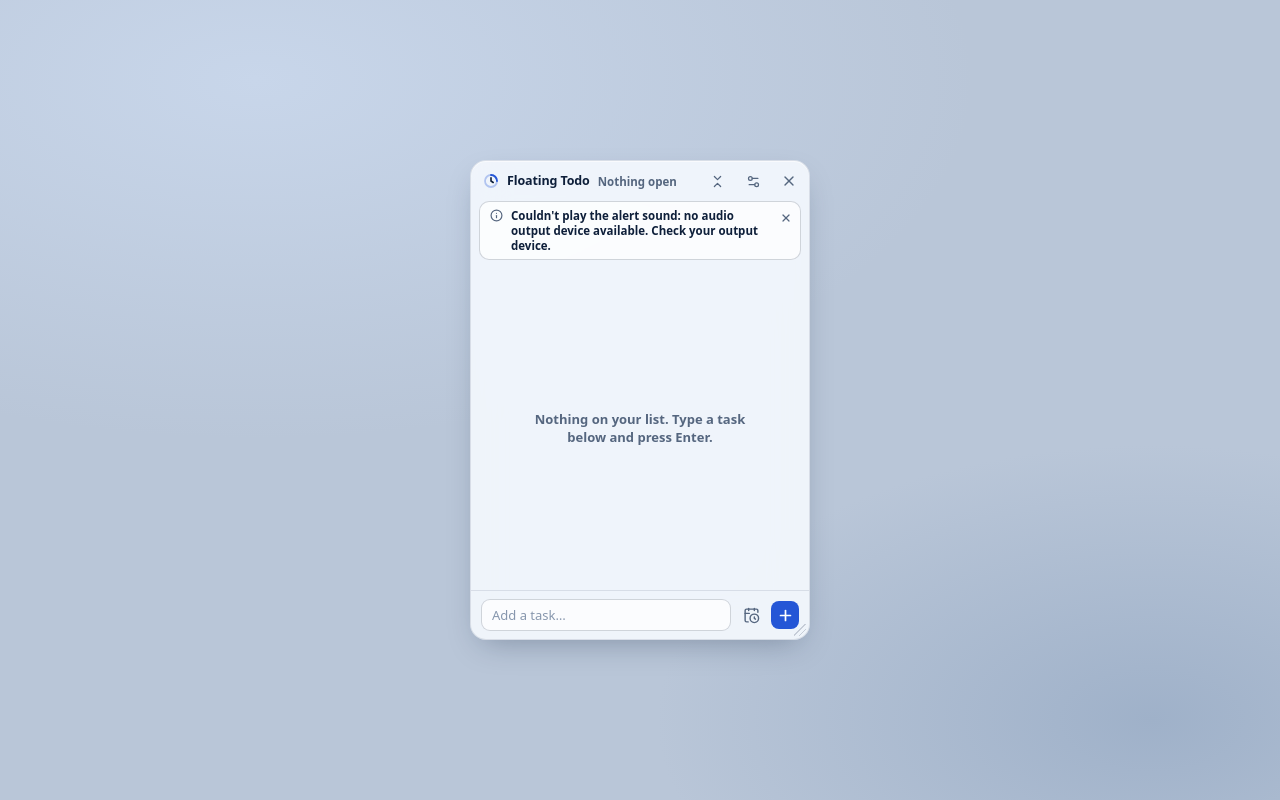
it: Widget › surfaces audio and notification failures and lets the user dismiss them
Expected: the header is shown, [471, 161, 809, 201]
Step 1. Click the button named "Dismiss message" → (786, 218), box [776, 208, 796, 228]
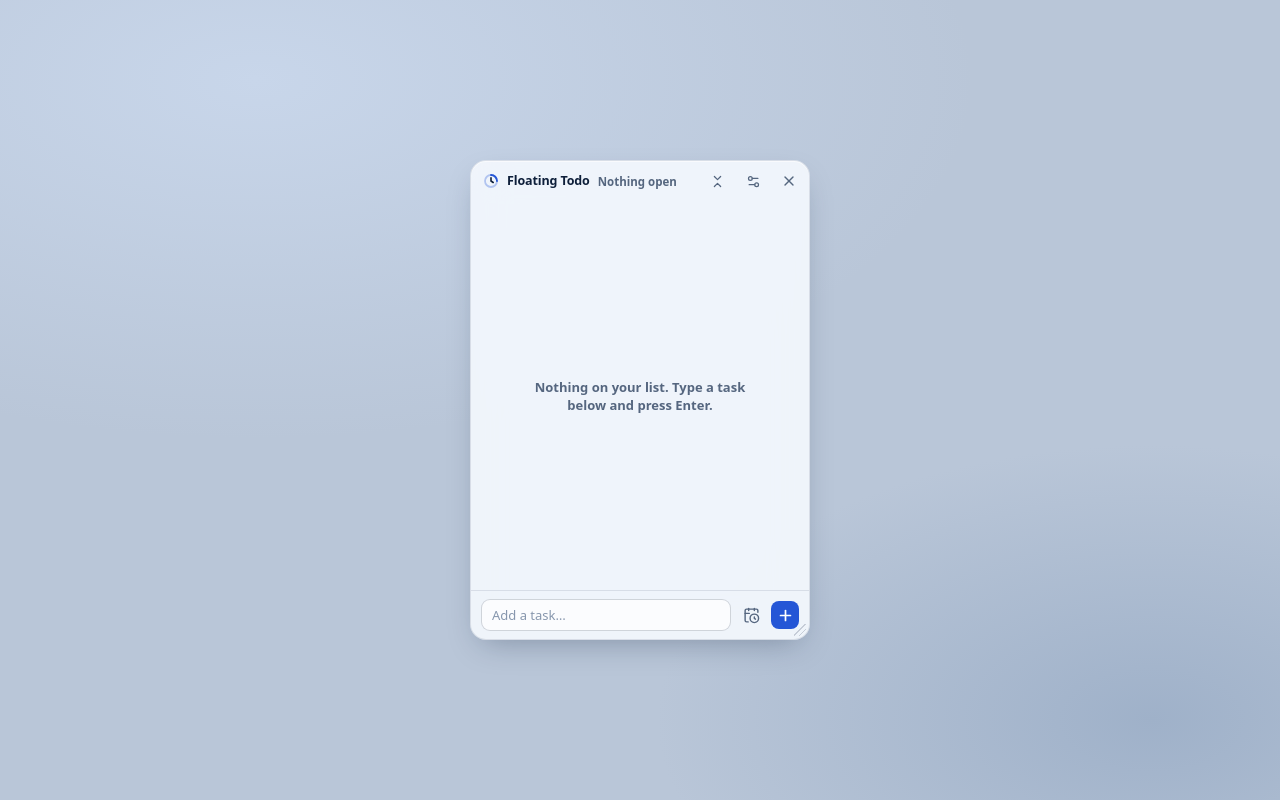
Expected: the text "Couldn't play the alert sound" is gone
